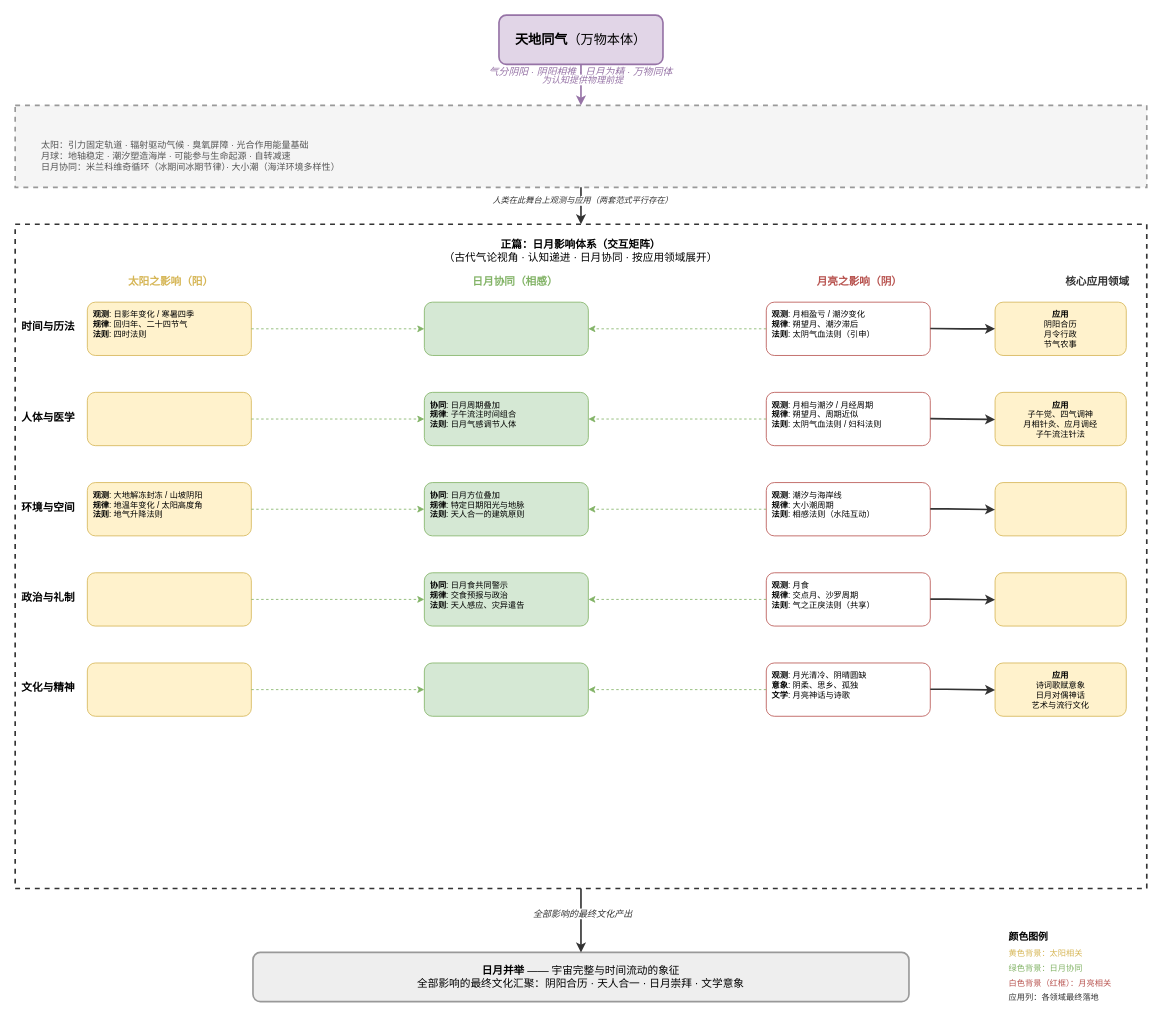
Some shapes in this 1161 by 1018 pixel diagram are drawn without their labels. The shapes that lost their labels are listed below. From the top down, each one's box as (x1, y1, x2, y2) in pixels, then its label:
(14, 104, 1147, 188): 前置背景：日月为地球创造的生命舞台 （现代科学视角 · 物理因果 · 不涉及人类认知）
(424, 301, 588, 355): 协同 : 日月周期不同步 规律 : 十九年七闰 法则 : 政治月令法则
(87, 392, 251, 446): 观测 : 昼夜更替 / 四季寒暑 规律 : 日周期、年周期 法则 : 阳气昼夜法则 / 四时法则
(994, 482, 1126, 536): 应用 坐北朝南、风水 神圣建筑对位 渔业与航海
(87, 572, 251, 626): 观测 : 日食、黑子 规律 : 交点月、沙罗周期 法则 : 气之正戾法则
(994, 572, 1126, 626): 应用 灾异谏政制度 春分朝日、秋分夕月 日月祭祀与崇拜
(87, 662, 251, 716): 观测 : 日光炽烈、圆满恒定 意象 : 阳刚、正义、光明 文学 : 太阳神话与诗歌
(424, 662, 588, 716): 协同 : 日月并举 意象融合 : 宇宙完整、时间流动 文学 : 宏大叙事、对偶神话
